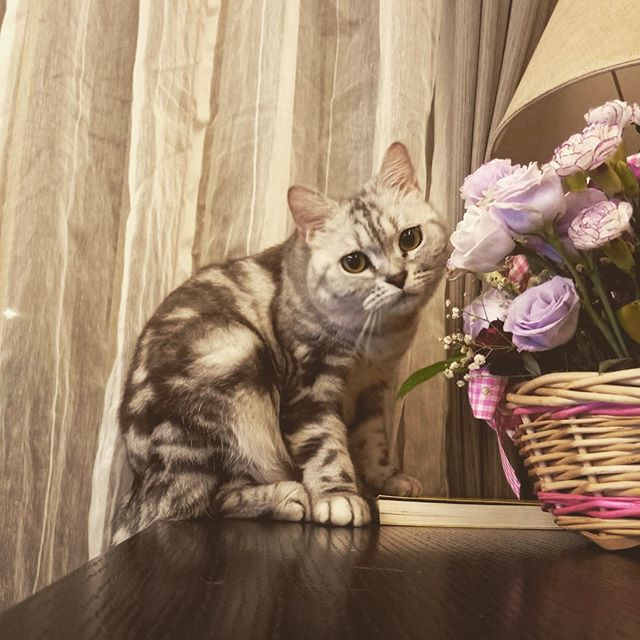cat: (282, 139, 447, 322)
